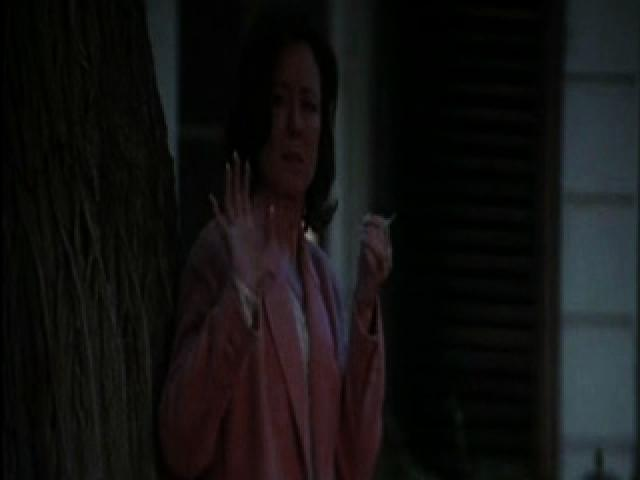T: (142, 0, 385, 480)
